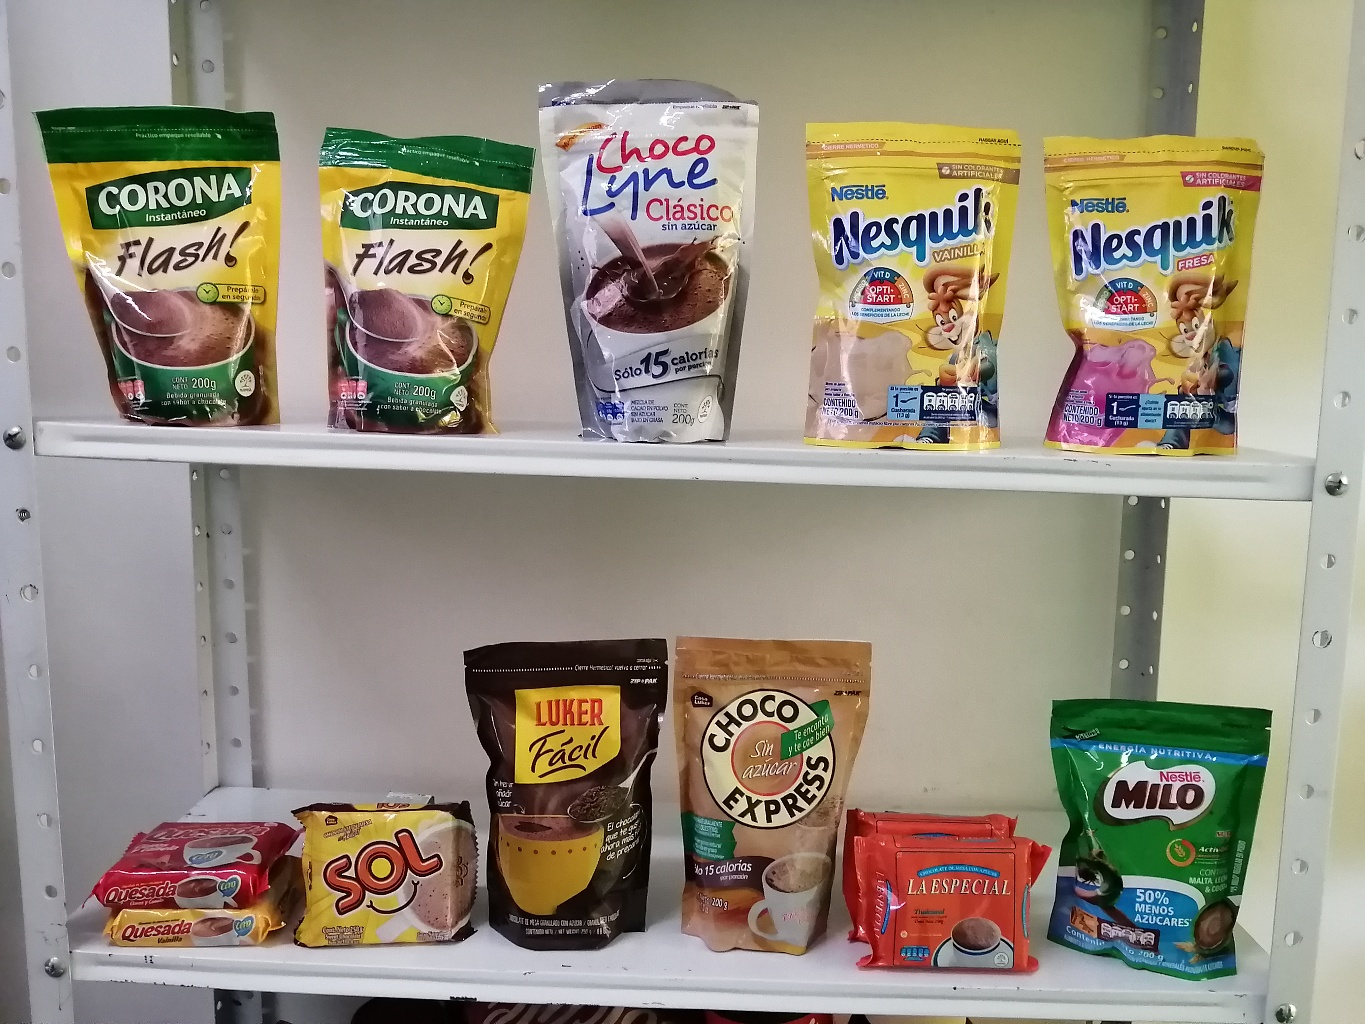COL0170205DYP20000: (1049, 686, 1261, 980)
COL0170305DYP20000: (1030, 119, 1271, 466)
COL0170306DYP20000: (782, 113, 1025, 451)
